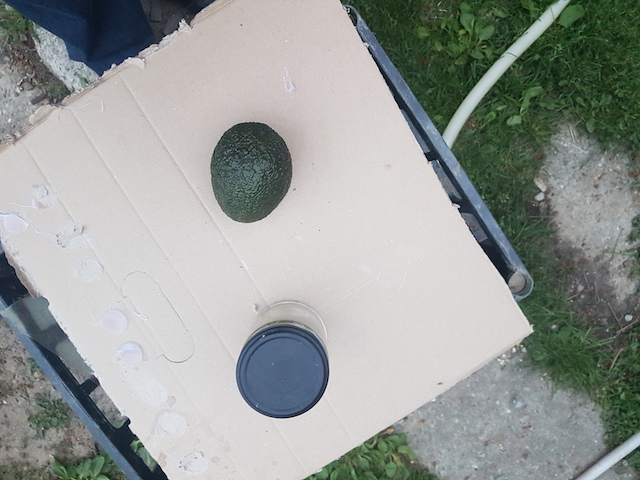avocado: (211, 122, 294, 223)
recipient: (235, 327, 331, 420)
